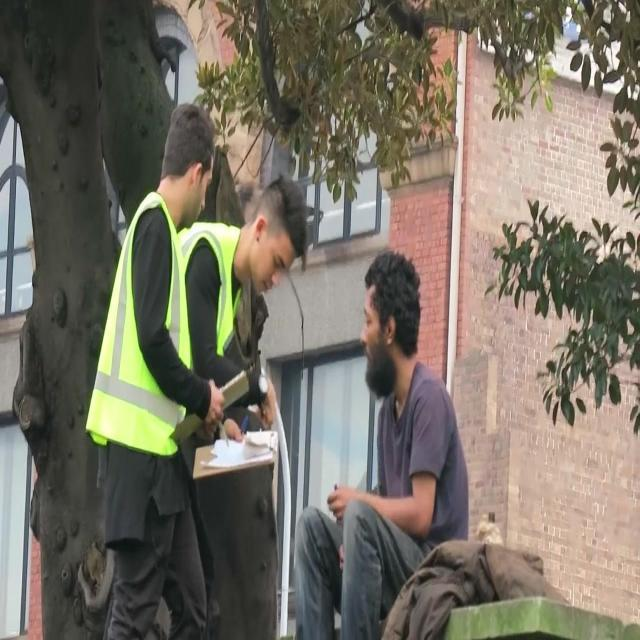reflective_jacket: (78, 186, 198, 478), (173, 205, 259, 443)
